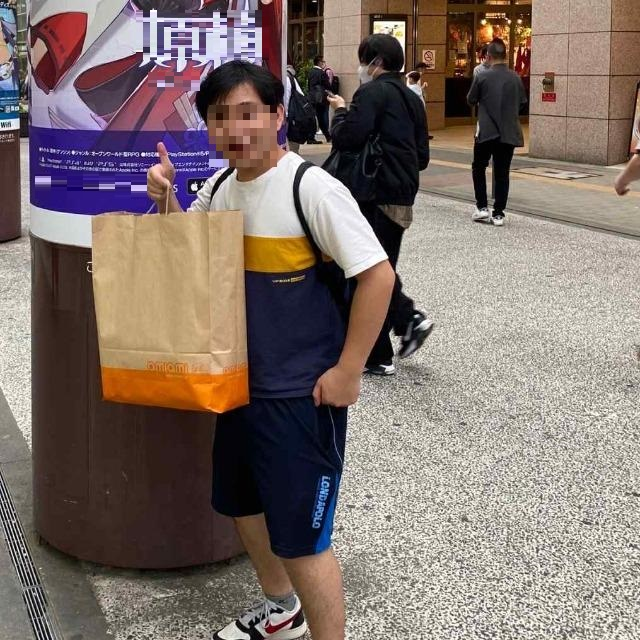NoHelmet: (193, 62, 290, 166)
